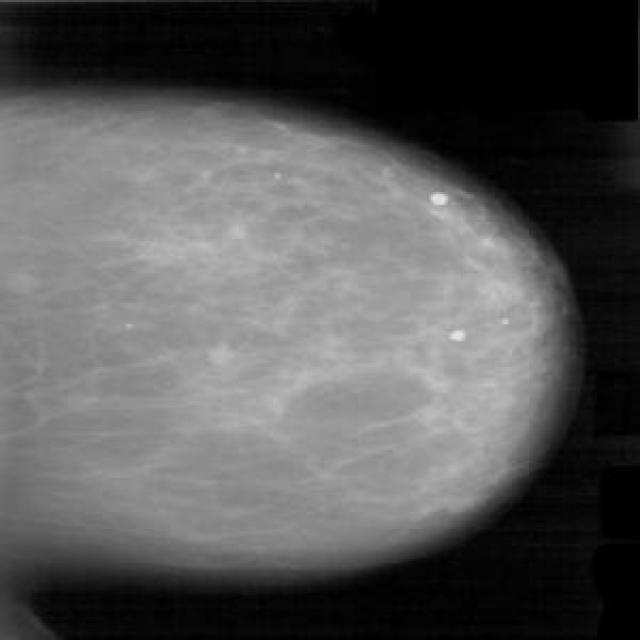tumor: (399, 177, 527, 472)
